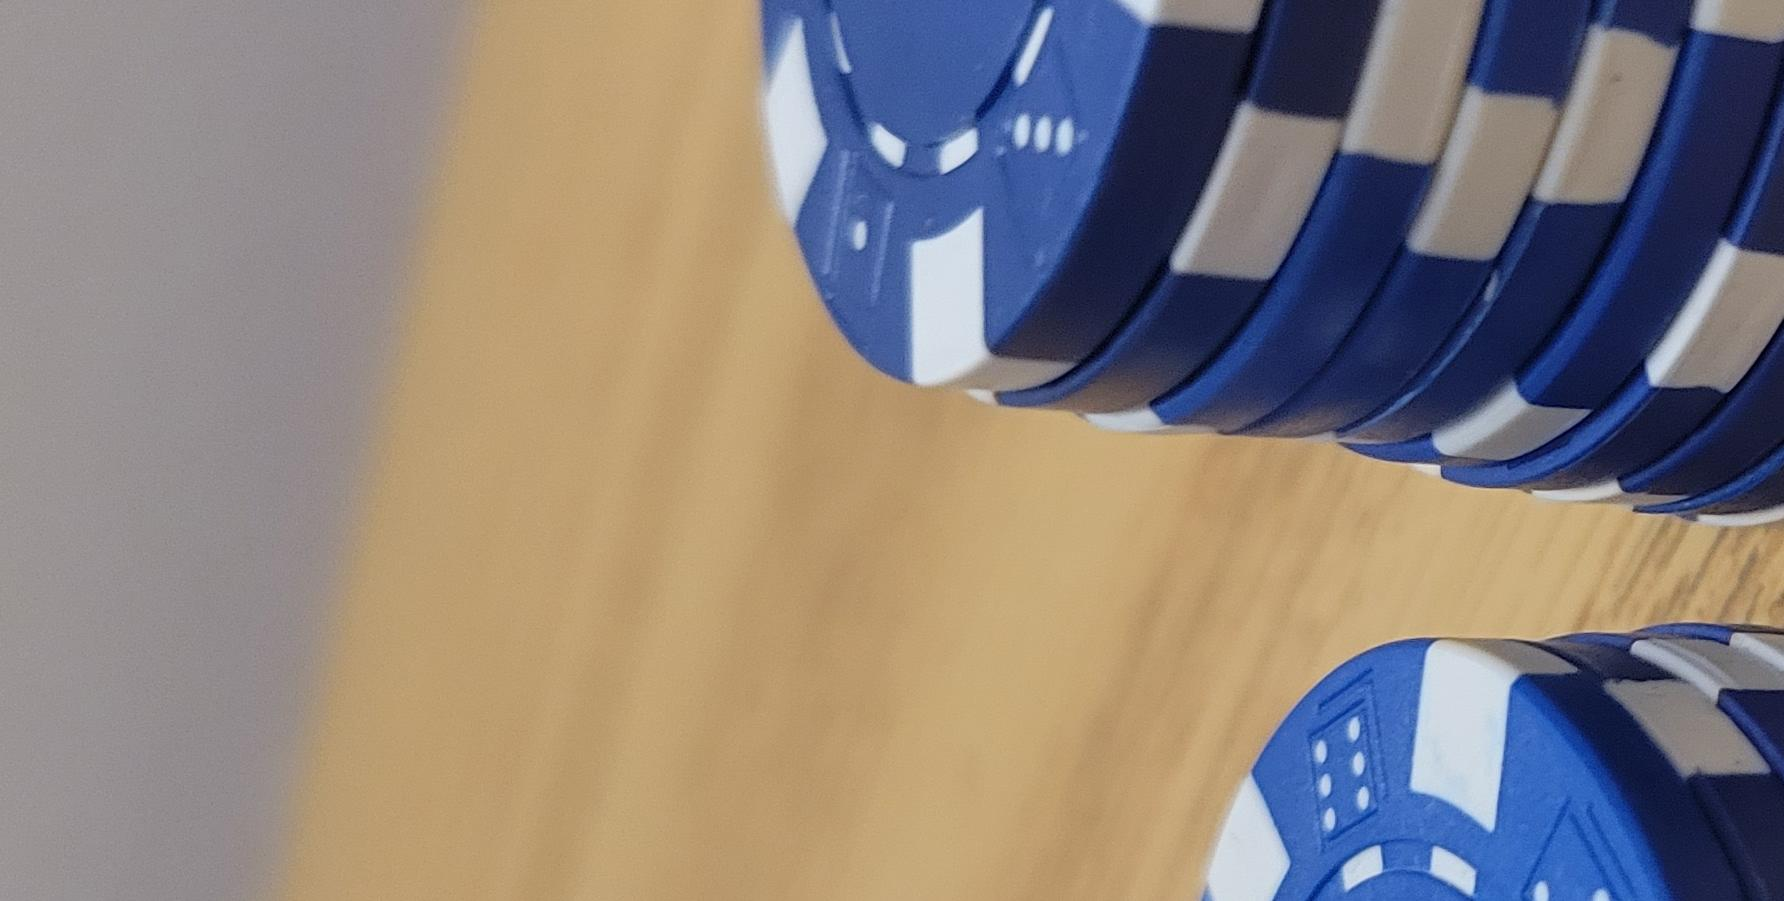Chip: (1, 328, 1281, 901)
